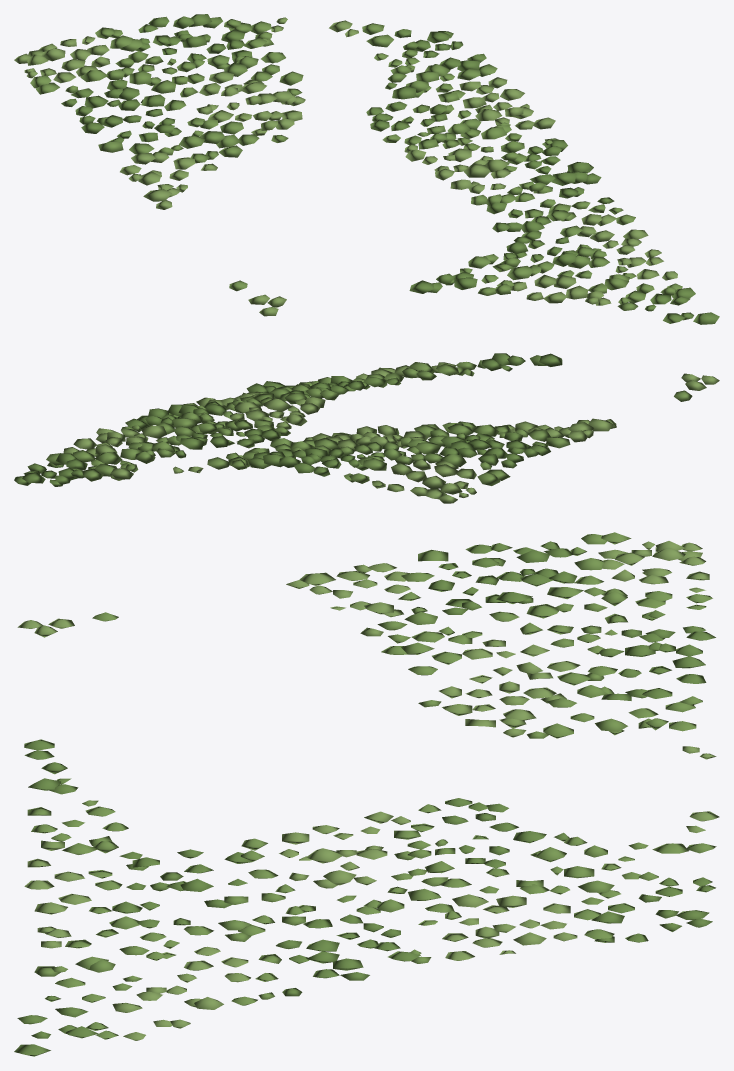
File: canopy-1--2-4.glb
3 views of the same model, one above another, from view 1: azimuth 30°, elevation 25°; view 2: azimuth 150°, elevation 25°; view 3: azimuth 270°, elevation 25° (orthographic). The views are drawn at different scales.
Bounding box in the file's own units: 512 × 205 × 520.
1 material, 1 textured.
